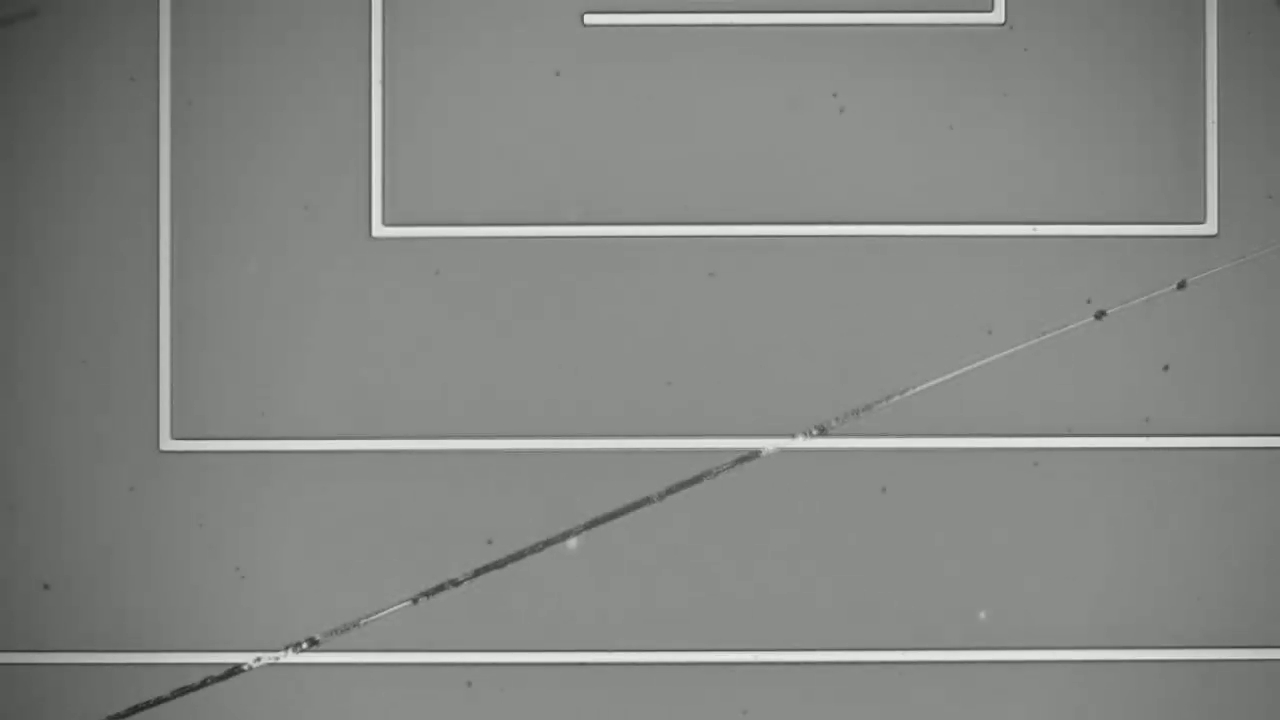scratch: (134, 245, 1275, 710)
